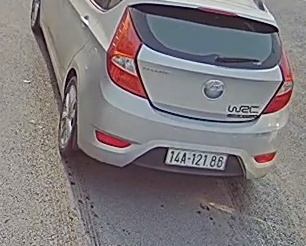vehicle plate: (164, 144, 230, 172)
